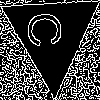C: (26, 10, 70, 48)
